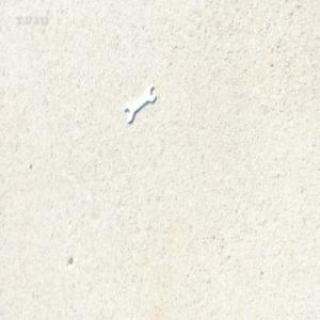Wrenchtrack_idkeyframe: (123, 84, 155, 122)
